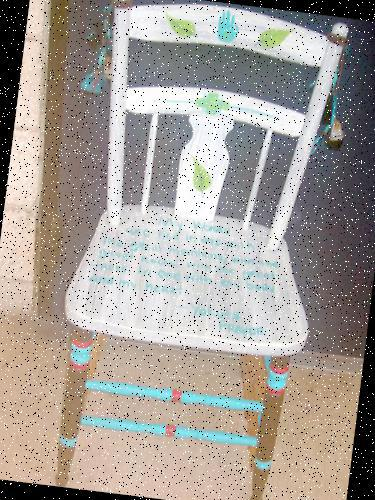Silla: (35, 0, 350, 499)
